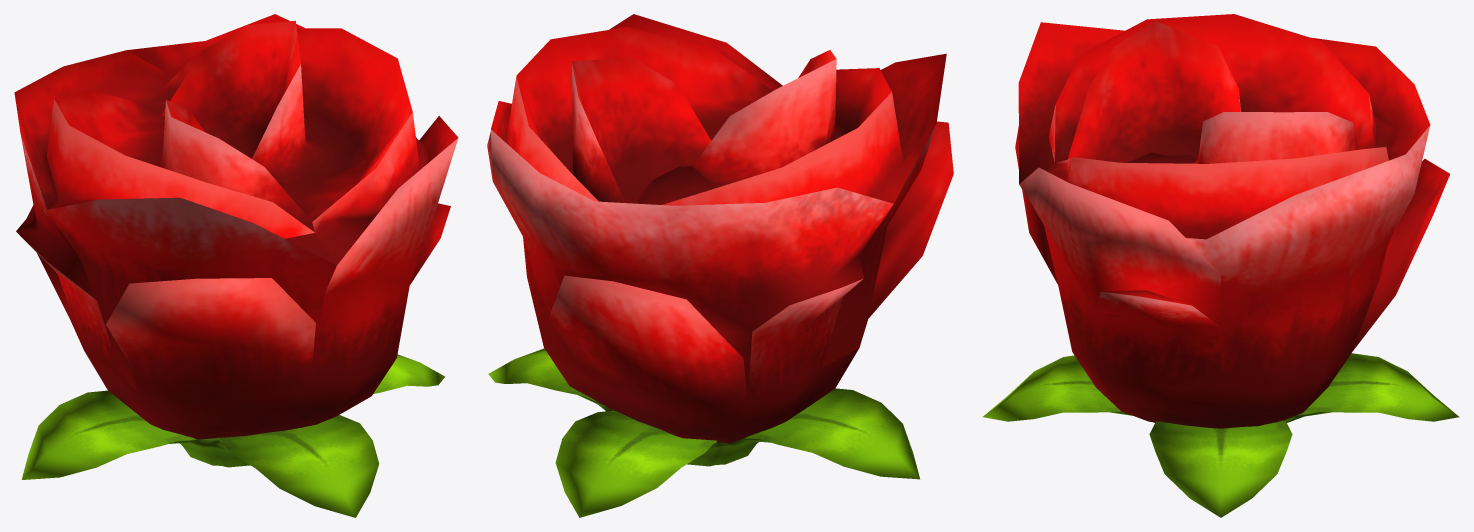
File: rose.fbx
3 renders of one model, left to right at view 1: azimuth 30°, elevation 25°; view 2: azimuth 150°, elevation 25°; view 3: azimuth 270°, elevation 25°, orthographic. The views are drawn at different scales.
Parts seen in each view (by area): view 1: rose.crown, rose.head; view 2: rose.crown, rose.head; view 3: rose.crown, rose.head.
Part boxes in pixels (<box>): rose.crown: <box>14,14,458,439</box>; rose.head: <box>21,354,444,517</box>; rose.crown: <box>487,14,953,443</box>; rose.head: <box>488,348,919,517</box>; rose.crown: <box>1015,14,1449,428</box>; rose.head: <box>982,353,1459,517</box>.
Size of the model in its own units: 228 by 202 by 228.
